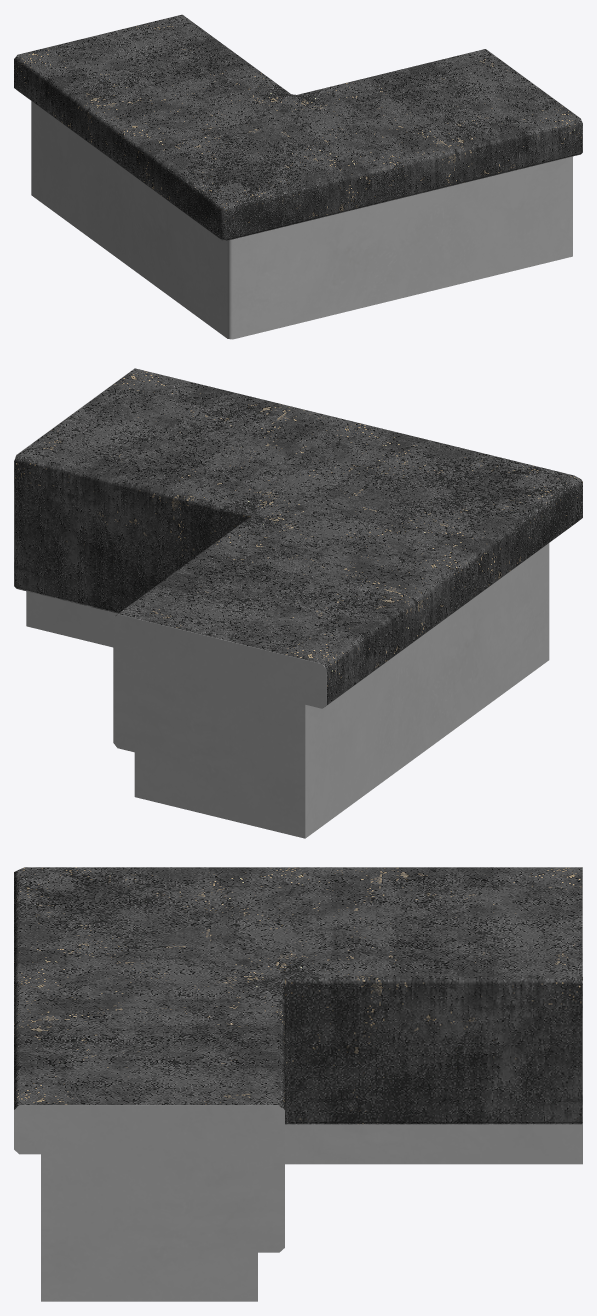
File: SM_RoofLedge_Corner_01.fbx
3 renders of one model, top to bottom at view 1: azimuth 30°, elevation 25°; view 2: azimuth 150°, elevation 25°; view 3: azimuth 270°, elevation 25°, orthographic. The views are drawn at different scales.
Parts seen in each view (by area): view 1: SM_RoofLedge_Corner_01_LOD0; view 2: SM_RoofLedge_Corner_01_LOD0; view 3: SM_RoofLedge_Corner_01_LOD0.
Boxes of the visible parts, x1,y1,x2,y2 form: SM_RoofLedge_Corner_01_LOD0: [14, 14, 582, 339]; SM_RoofLedge_Corner_01_LOD0: [14, 368, 582, 838]; SM_RoofLedge_Corner_01_LOD0: [14, 867, 582, 1301].
Bounding box in the file's own units: 105 × 105 × 40.
